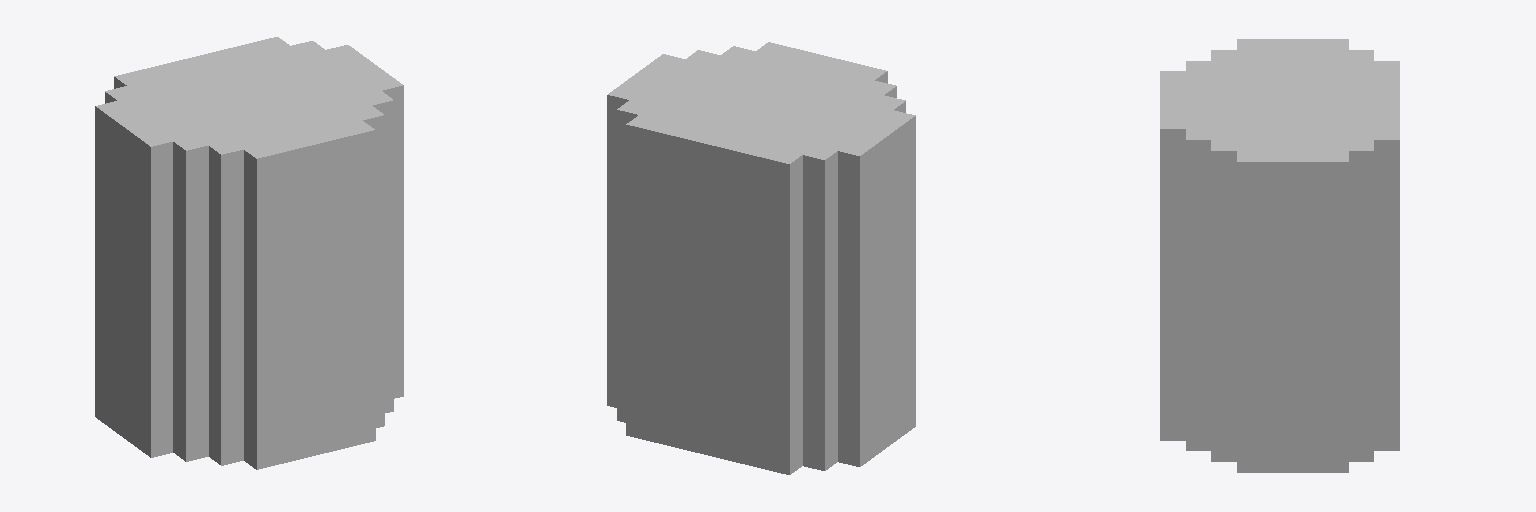
The model's file is stage.obj.
3 renders of one model, left to right at view 1: azimuth 30°, elevation 25°; view 2: azimuth 150°, elevation 25°; view 3: azimuth 270°, elevation 25°, orthographic.
Parts seen in each view (by area): view 1: 000_Box_5_-_baked_1, 023_Box_13, 027_Box_-_baked, 011_Box_27, 012_Box_26, 010_Box_32, 017_Box_23, 009_Box_35, 013_Box_25, 006_Box_30, 002_Box_18, 016_Box_24 (+9 smaller); view 2: 021_Box_5_-_baked_3, 023_Box_13, 027_Box_-_baked, 005_Box_28, 008_Box_33, 018_Box_21, 007_Box_34, 004_Box_29, 001_Box_16, 019_Box_20, 025_Box_4, 028_Box_10 (+5 smaller); view 3: 022_Box_14, 027_Box_-_baked, 016_Box_24, 019_Box_20, 014_Box_19, 015_Box_17, 020_Box_15, 006_Box_30, 007_Box_34, 009_Box_35, 004_Box_29, 013_Box_25 (+7 smaller).
Boxes of the visible parts, x1,y1,x2,y2 form: 000_Box_5_-_baked_1: [260, 129, 367, 467]; 023_Box_13: [100, 108, 153, 454]; 027_Box_-_baked: [127, 41, 358, 139]; 011_Box_27: [182, 143, 208, 461]; 012_Box_26: [217, 146, 243, 465]; 010_Box_32: [147, 139, 172, 457]; 017_Box_23: [240, 145, 263, 469]; 009_Box_35: [378, 82, 403, 398]; 013_Box_25: [359, 112, 384, 427]; 006_Box_30: [368, 97, 393, 412]; 002_Box_18: [169, 137, 188, 458]; 016_Box_24: [351, 117, 375, 442]; 021_Box_5_-_baked_3: [634, 123, 785, 473]; 023_Box_13: [857, 117, 911, 463]; 027_Box_-_baked: [639, 60, 871, 158]; 005_Box_28: [803, 152, 828, 470]; 008_Box_33: [838, 148, 863, 466]; 018_Box_21: [782, 150, 805, 474]; 007_Box_34: [607, 92, 632, 407]; 004_Box_29: [617, 107, 641, 422]; 001_Box_16: [822, 146, 840, 467]; 019_Box_20: [626, 112, 649, 436]; 025_Box_4: [725, 51, 884, 95]; 028_Box_10: [629, 55, 722, 113]; 022_Box_14: [1246, 158, 1339, 472]; 027_Box_-_baked: [1220, 64, 1391, 136]; 016_Box_24: [1160, 126, 1193, 440]; 019_Box_20: [1366, 137, 1399, 450]; 014_Box_19: [1194, 137, 1219, 450]; 015_Box_17: [1220, 148, 1245, 461]; 020_Box_15: [1340, 148, 1365, 461]; 006_Box_30: [1211, 140, 1219, 461]; 007_Box_34: [1340, 151, 1348, 472]; 009_Box_35: [1237, 151, 1245, 472]; 004_Box_29: [1366, 140, 1373, 461]; 013_Box_25: [1186, 129, 1193, 450].
Size of the model in its own units: 170 by 200 by 140.